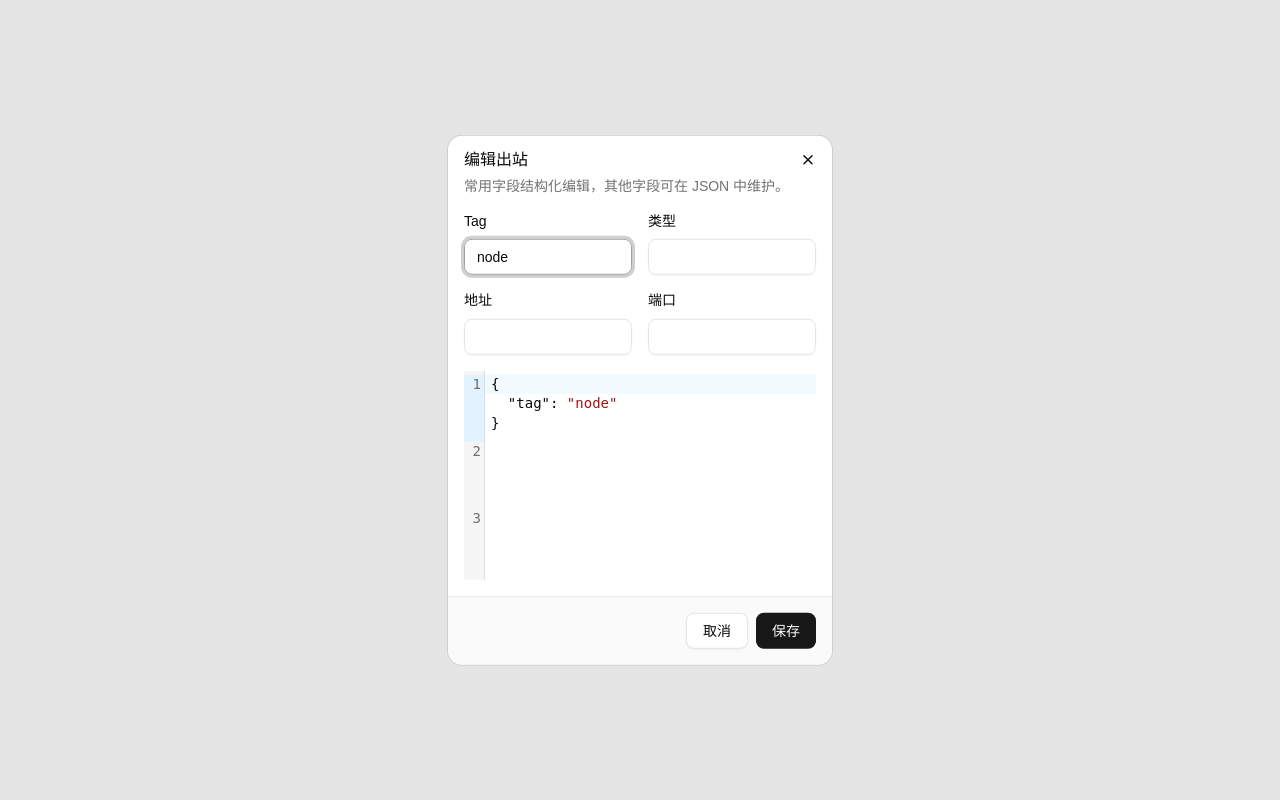
Test: ProxyEditorDialog states › disables saving when the JSON root is not an object
Click the field named "编辑出站 JSON" at (650, 384), box [485,370,816,437]
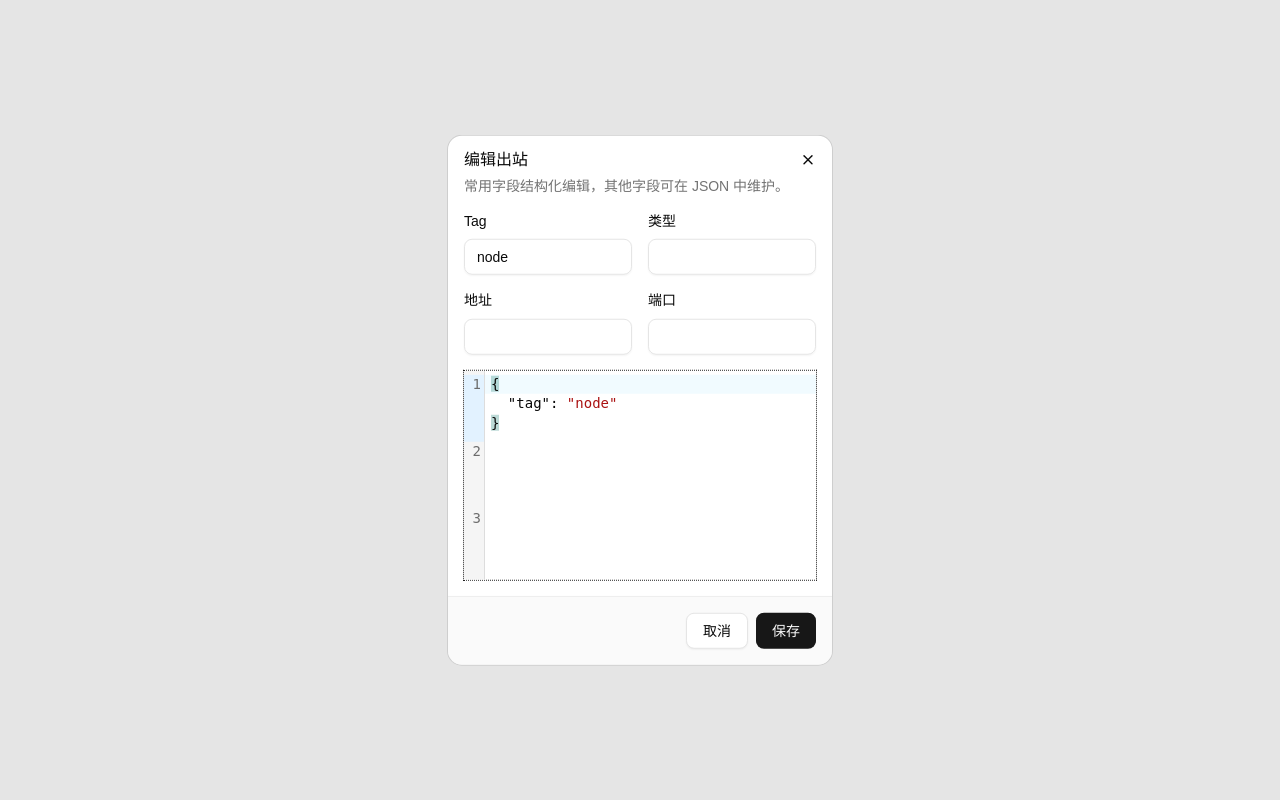
Type keys "{Control>}a{/Control}[BracketLeft][BracketRight]"
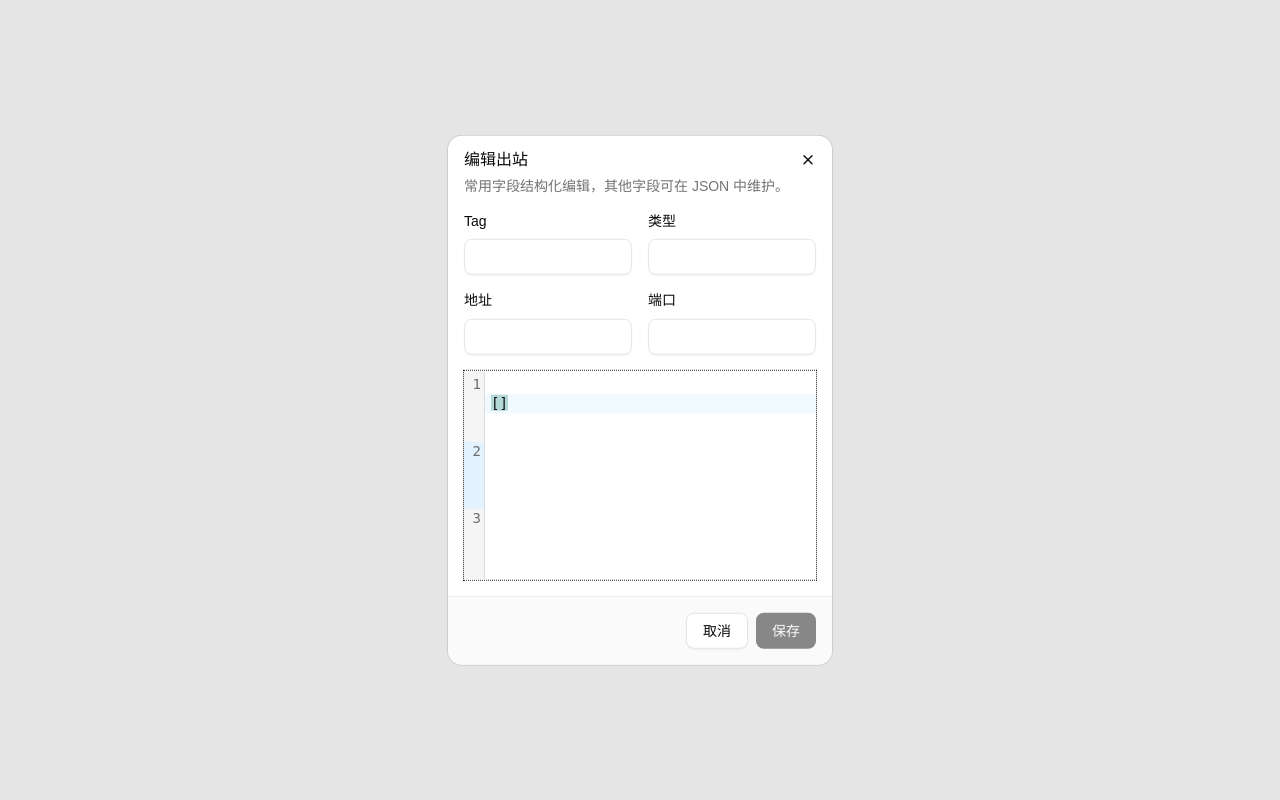
Now the button "保存" is disabled, box [756,612,816,648]
